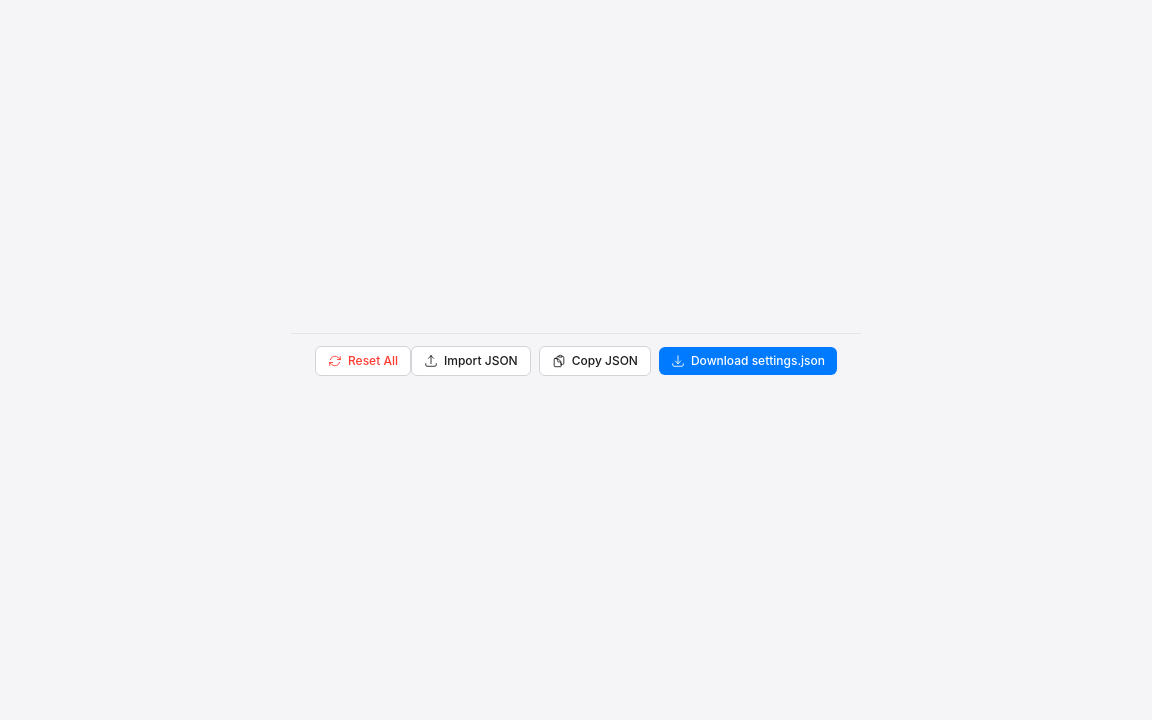
Test: ActionBar › should show confirmation dialog when reset button is clicked
Click the button "Reset All". click: (363, 360)
box: [315,346,411,376]
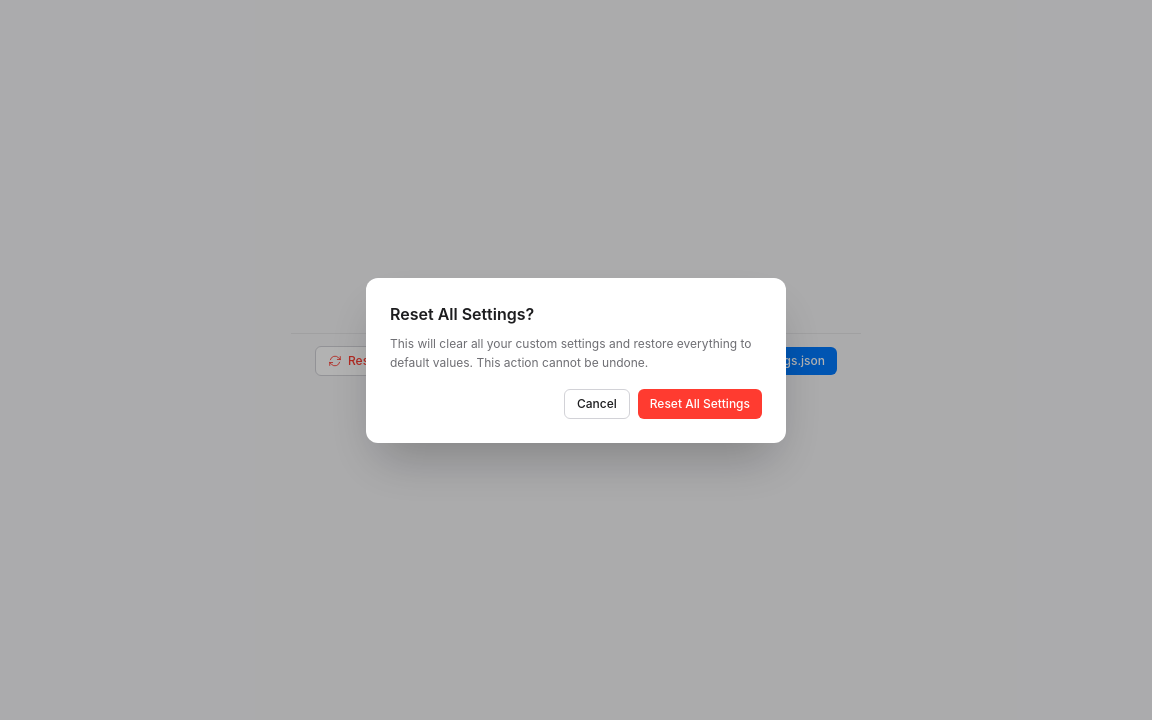
Expected: the heading "Reset All Settings?" is shown, [390,304,534,324]
